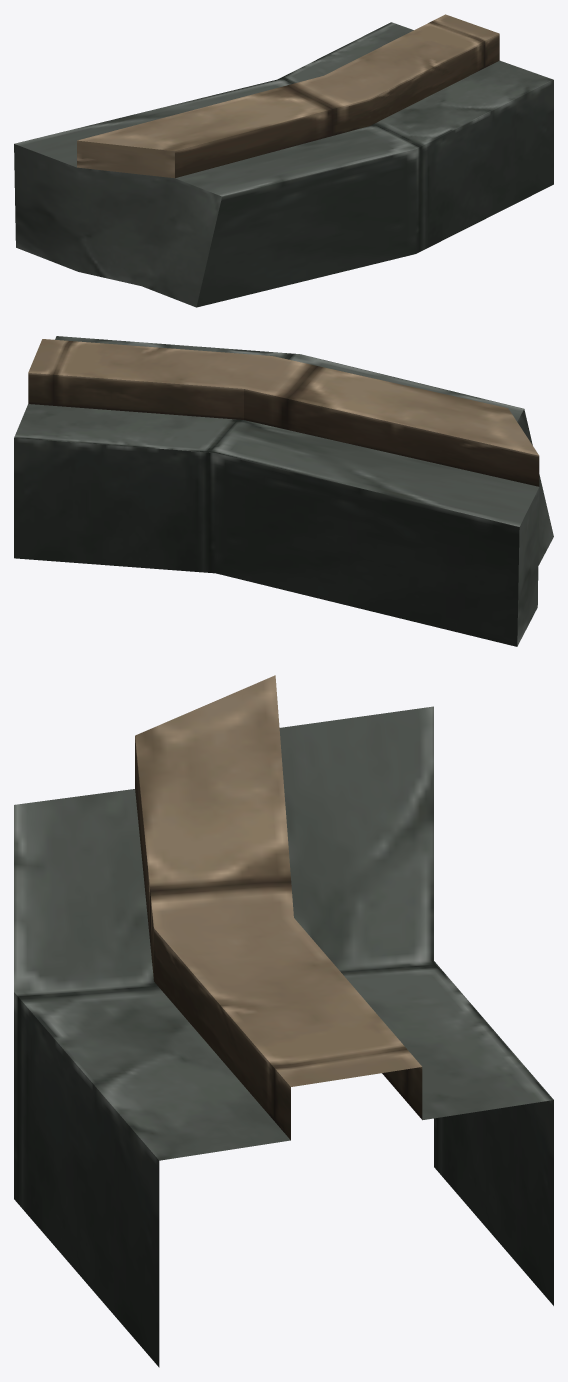
File: sn_newshanlin_fbbrick_002.FBX
The picture shows the model from 3 angles, top to bottom: view 1: azimuth 30°, elevation 25°; view 2: azimuth 150°, elevation 25°; view 3: azimuth 270°, elevation 25°; orthographic projection. The views are drawn at different scales.
Visible parts, largest first — view 1: sn_newshanlin_fbbrick_002; view 2: sn_newshanlin_fbbrick_002; view 3: sn_newshanlin_fbbrick_002.
Part boxes in pixels (box(x1,y1,x2,y2)): sn_newshanlin_fbbrick_002: box(14, 14, 553, 307); sn_newshanlin_fbbrick_002: box(14, 336, 553, 646); sn_newshanlin_fbbrick_002: box(14, 675, 553, 1367).
Size of the model in its own units: 0.9281 by 0.4662 by 0.2481.
